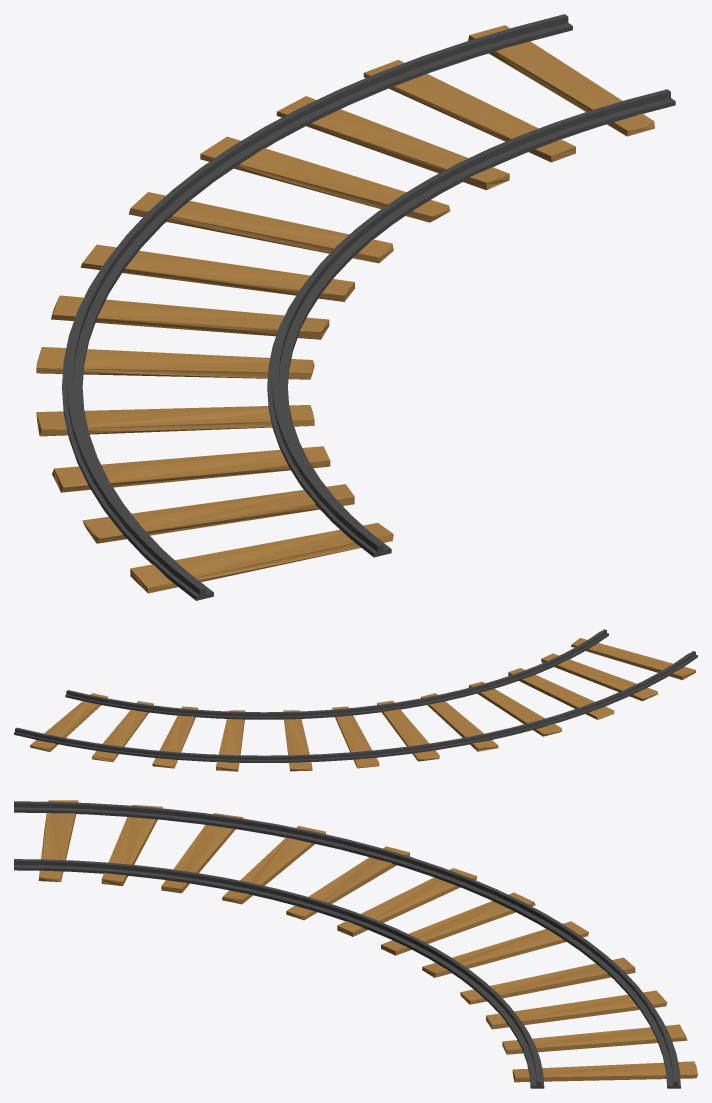
Rendered from Model_Track_Turn90.FBX.
3 views of the same model, one above another, from view 1: azimuth 30°, elevation 25°; view 2: azimuth 150°, elevation 25°; view 3: azimuth 270°, elevation 25° (orthographic). The views are drawn at different scales.
Parts seen in each view (by area): view 1: Track_Turn; view 2: Track_Turn; view 3: Track_Turn.
Boxes of the visible parts, x1,y1,x2,y2 form: Track_Turn: [36, 14, 675, 600]; Track_Turn: [14, 629, 697, 771]; Track_Turn: [14, 800, 697, 1088].
Bounding box in the file's own units: 756 × 13.48 × 756.
